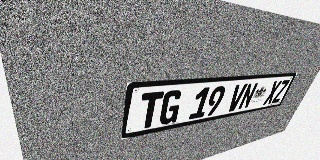1: (189, 87, 213, 120)
9: (204, 85, 227, 117)
G: (158, 89, 184, 126)
N: (237, 83, 259, 110)
T: (137, 91, 164, 130)
V: (226, 84, 248, 112)
X: (263, 80, 282, 105)
Z: (271, 80, 290, 103)
